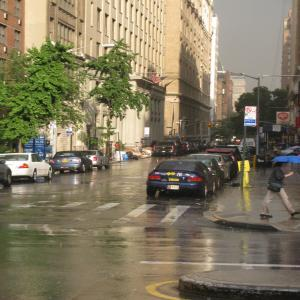Vehicle-registration-plate: (168, 186, 180, 190)
